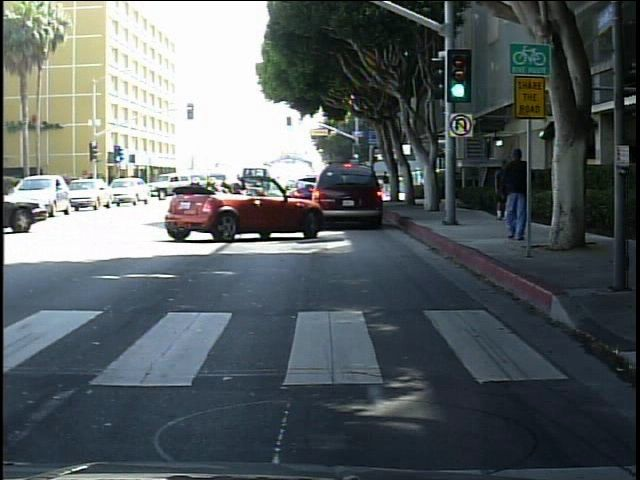person: (497, 140, 531, 240), (491, 148, 517, 226), (412, 165, 425, 186)
